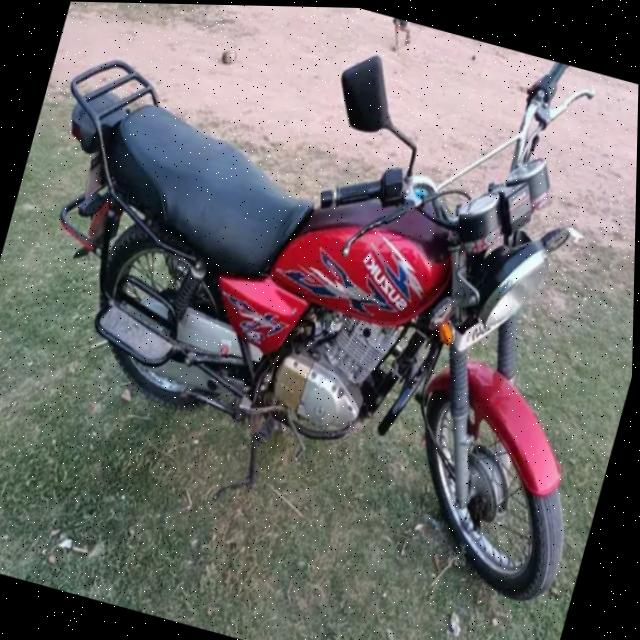Bike: (0, 21, 640, 581)
